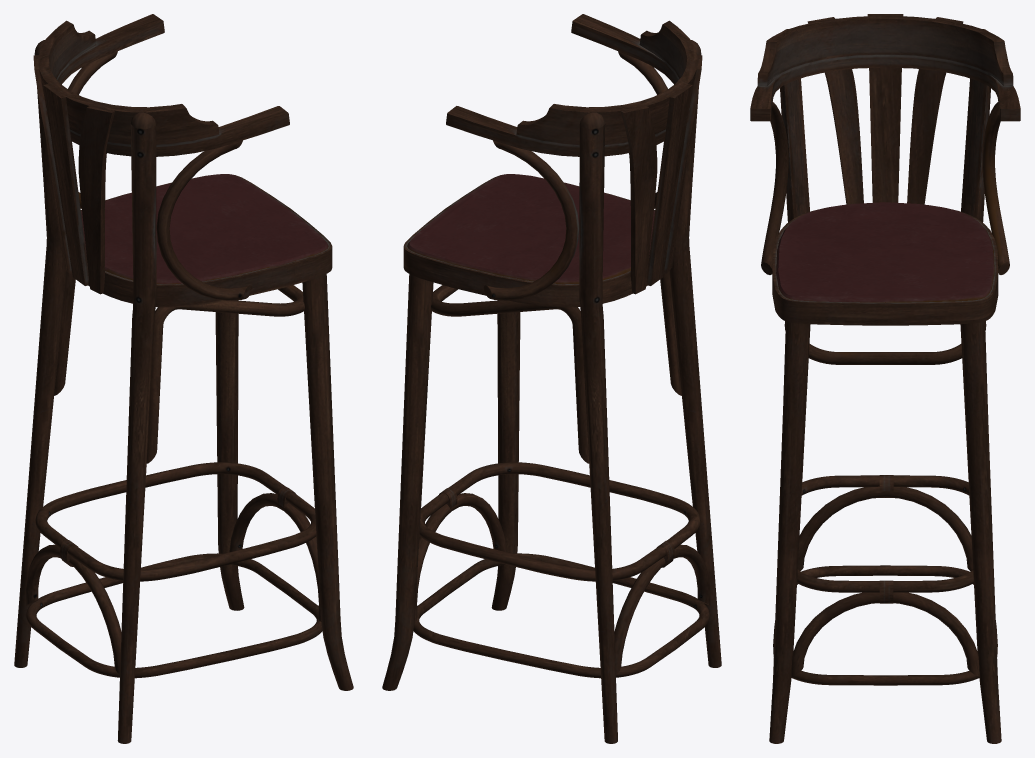
File: Stool_adapted.glb
The picture shows the model from 3 angles, left to right: view 1: azimuth 30°, elevation 25°; view 2: azimuth 150°, elevation 25°; view 3: azimuth 270°, elevation 25°; orthographic projection.
Bounding box in the file's own units: 0.45 × 1.09 × 0.4311.
1 material, 1 textured.
